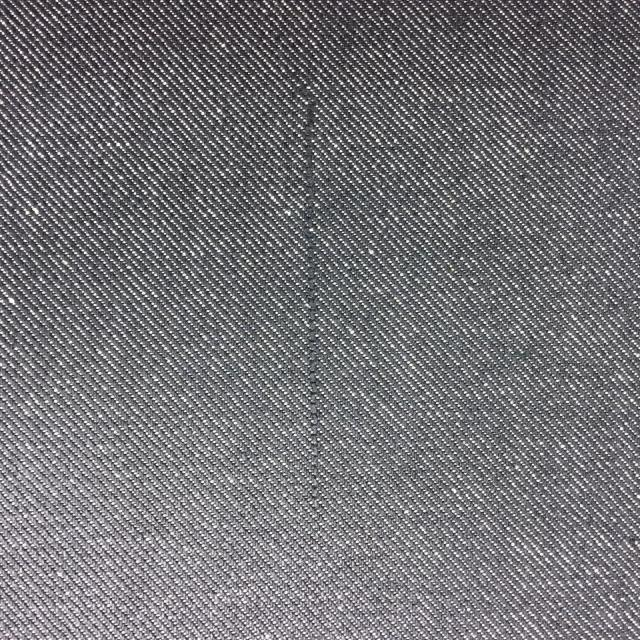Line: (300, 68, 322, 508)
